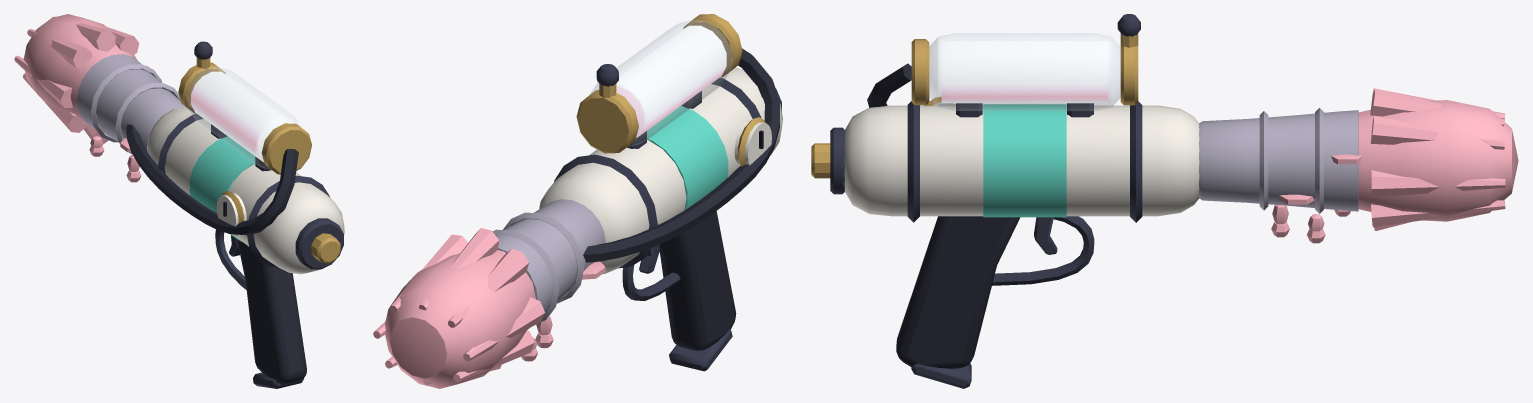
The model's file is paint_blaster.glb.
The picture shows the model from 3 angles, left to right: view 1: azimuth 30°, elevation 25°; view 2: azimuth 150°, elevation 25°; view 3: azimuth 270°, elevation 25°; orthographic projection. The views are drawn at different scales.
Parts seen in each view (by area): view 1: Chamber, Muzzle, Grip, Tank, Ferrule, Fill, Hose, SkinBand, TankCap0, RearCap, Hoop0, TankCap1 (+8 smaller); view 2: Muzzle, Chamber, Tank, Grip, Fill, Ferrule, Hose, SkinBand, TankCap1, Hoop1, TankCap0, GripCap (+9 smaller); view 3: Chamber, Muzzle, Tank, Ferrule, Grip, Fill, SkinBand, TriggerGuard, PaintDrips, Hoop1, Hoop0, TankCap0 (+8 smaller).
Part boxes in pixels (x1=…): Chamber: x1=147, y1=106, x2=344, y2=274; Muzzle: x1=14, y1=14, x2=139, y2=144; Grip: x1=237, y1=239, x2=306, y2=384; Tank: x1=186, y1=67, x2=300, y2=169; Ferrule: x1=77, y1=54, x2=184, y2=149; Fill: x1=191, y1=71, x2=293, y2=161; Hose: x1=126, y1=124, x2=298, y2=235; SkinBand: x1=189, y1=136, x2=255, y2=241; TankCap0: x1=261, y1=123, x2=311, y2=174; RearCap: x1=295, y1=218, x2=343, y2=269; Hoop0: x1=247, y1=175, x2=329, y2=267; TankCap1: x1=178, y1=62, x2=225, y2=113; Muzzle: x1=373, y1=228, x2=545, y2=388; Chamber: x1=539, y1=67, x2=782, y2=274; Tank: x1=590, y1=20, x2=732, y2=146; Grip: x1=659, y1=211, x2=736, y2=350; Fill: x1=616, y1=25, x2=726, y2=137; Ferrule: x1=496, y1=199, x2=605, y2=329; Hose: x1=583, y1=48, x2=779, y2=262; SkinBand: x1=647, y1=106, x2=728, y2=210; TankCap1: x1=576, y1=90, x2=638, y2=153; Hoop1: x1=554, y1=154, x2=657, y2=268; TankCap0: x1=683, y1=14, x2=742, y2=77; GripCap: x1=669, y1=329, x2=732, y2=371; Chamber: x1=844, y1=105, x2=1199, y2=216; Muzzle: x1=1358, y1=88, x2=1518, y2=230; Tank: x1=929, y1=33, x2=1120, y2=110; Ferrule: x1=1199, y1=110, x2=1358, y2=211; Grip: x1=896, y1=216, x2=1020, y2=368; Fill: x1=941, y1=41, x2=1108, y2=103; SkinBand: x1=983, y1=104, x2=1066, y2=217; TriggerGuard: x1=992, y1=216, x2=1094, y2=285; PaintDrips: x1=1271, y1=154, x2=1362, y2=243; Hoop1: x1=1130, y1=101, x2=1142, y2=222; Hoop0: x1=907, y1=101, x2=919, y2=222; TankCap0: x1=911, y1=39, x2=929, y2=105.
Size of the model in its own units: 0.1314 by 0.3639 by 0.636.
